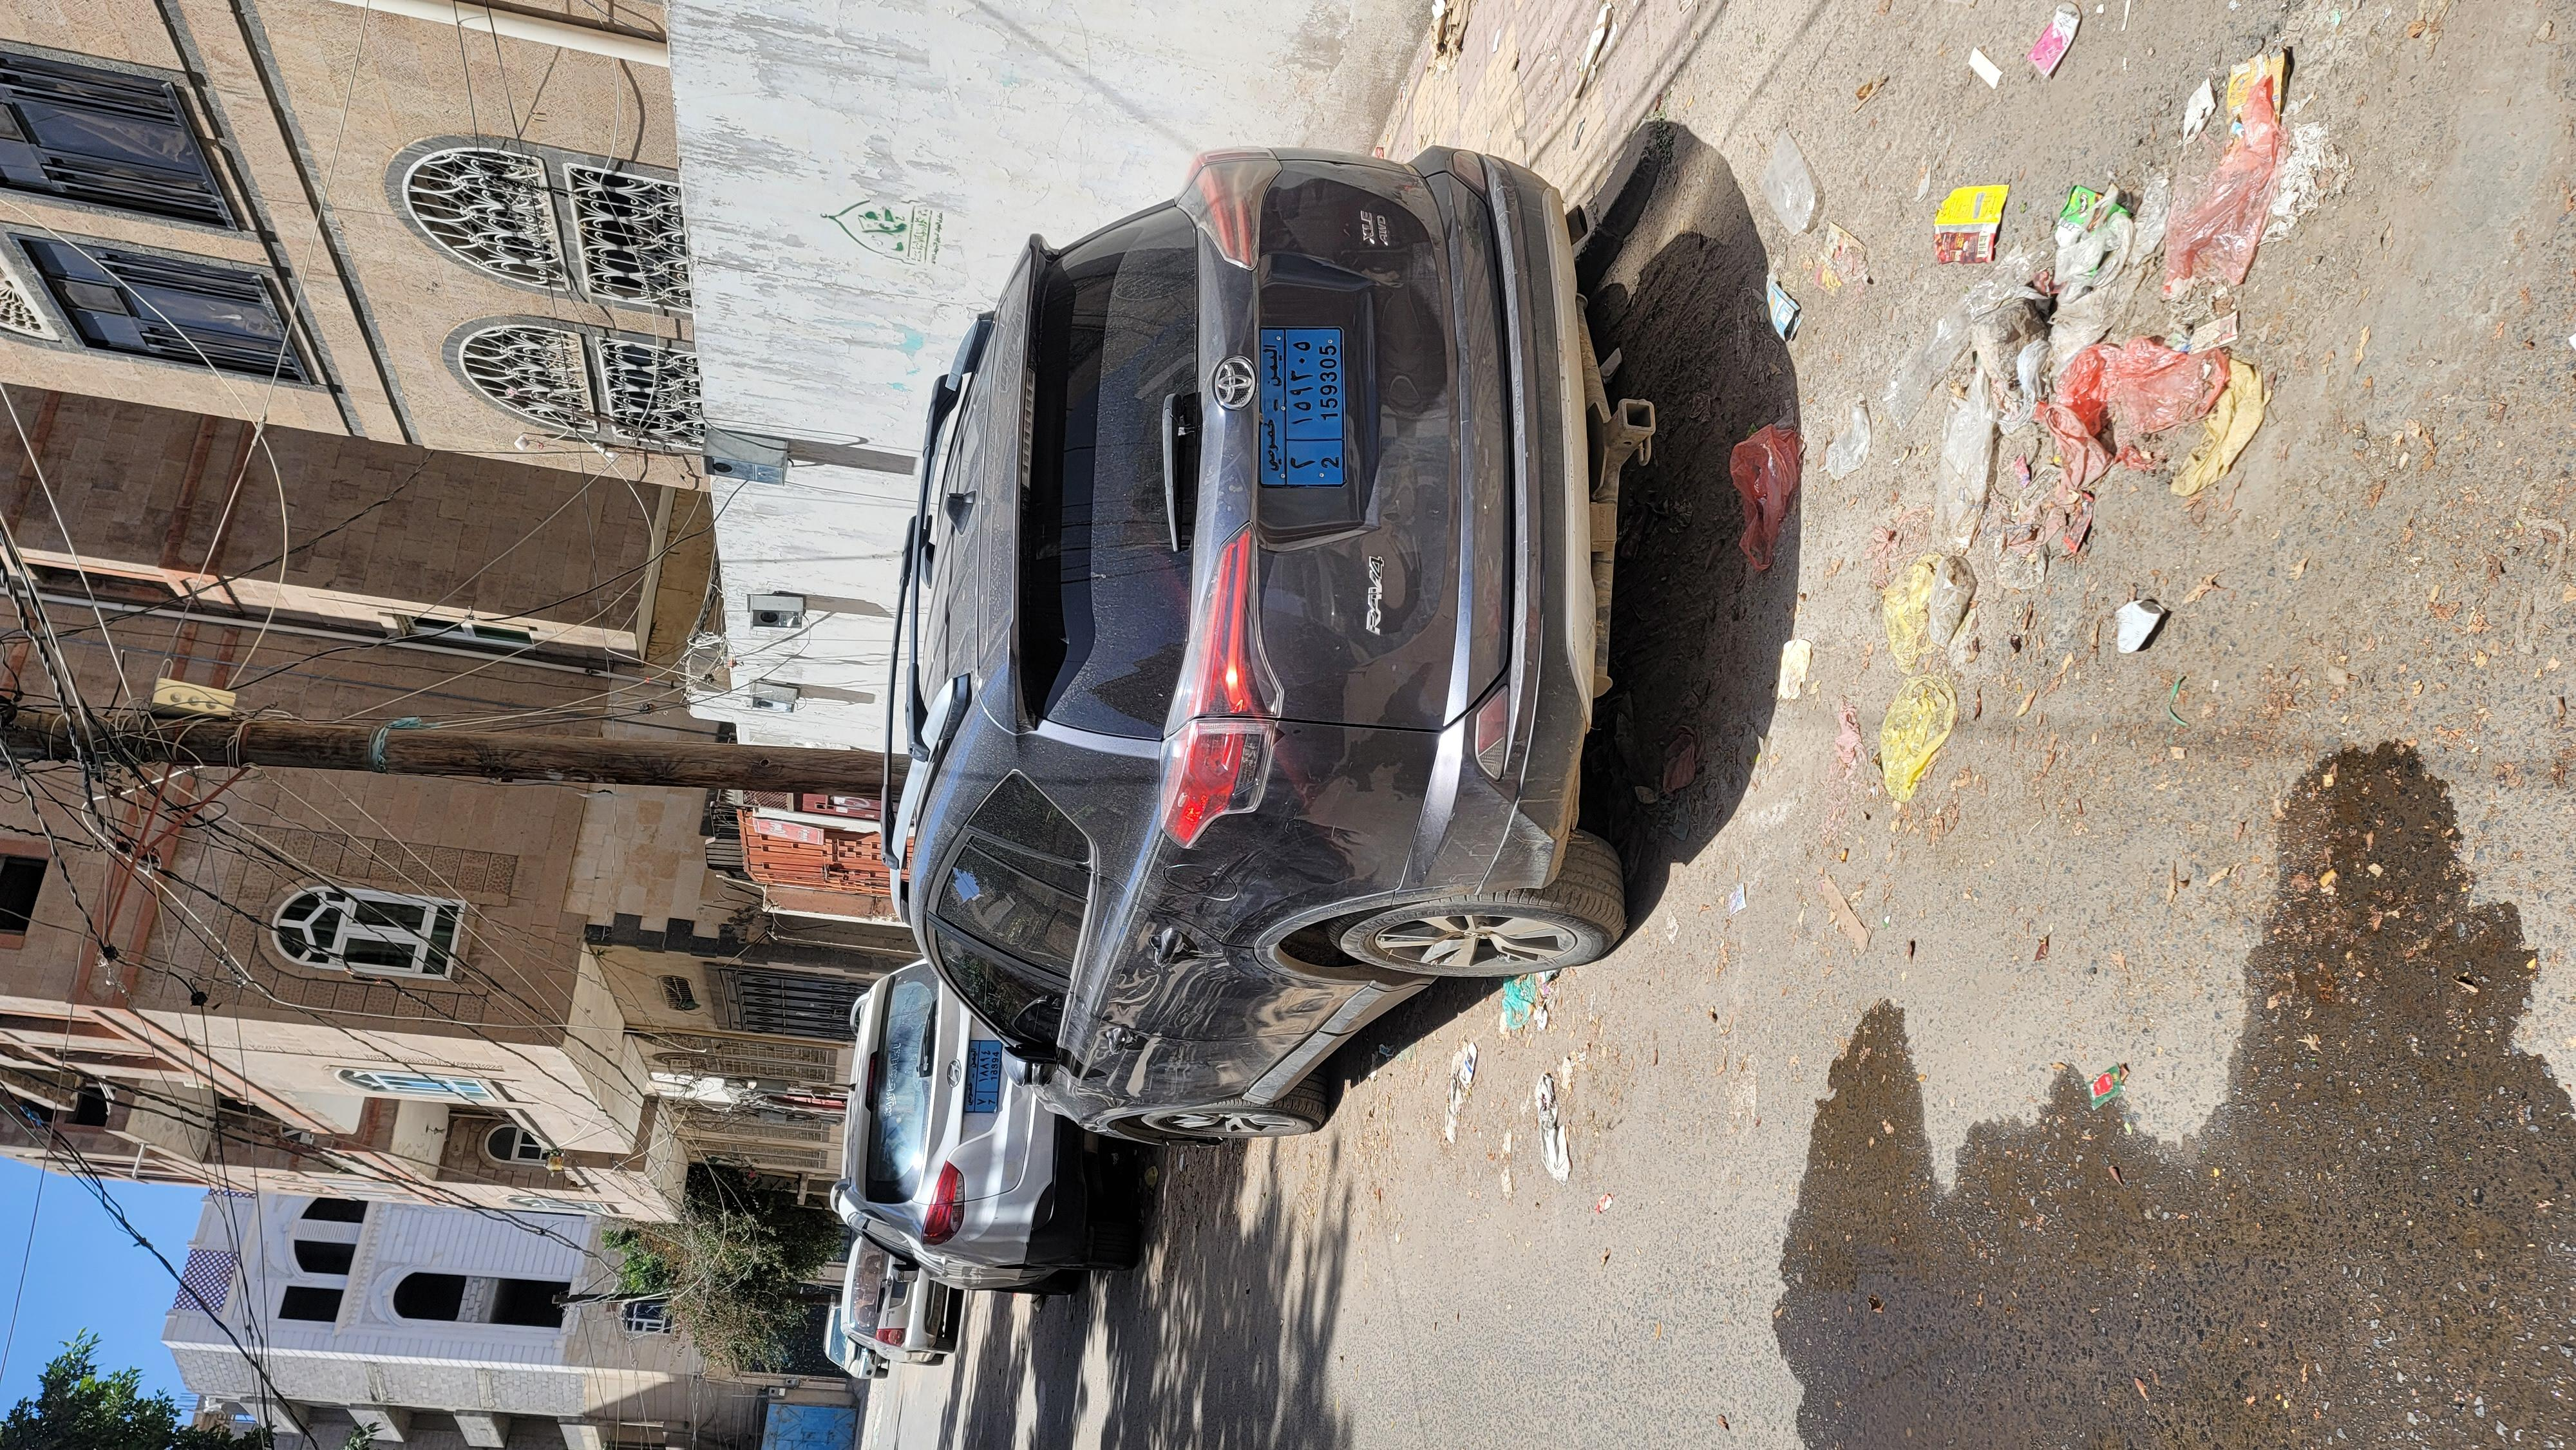privte: (1714, 709, 1994, 757), (602, 543, 725, 562)
